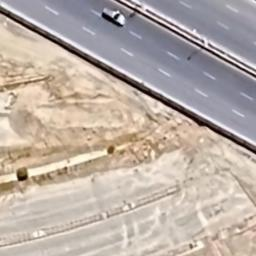van: (99, 4, 127, 30)
